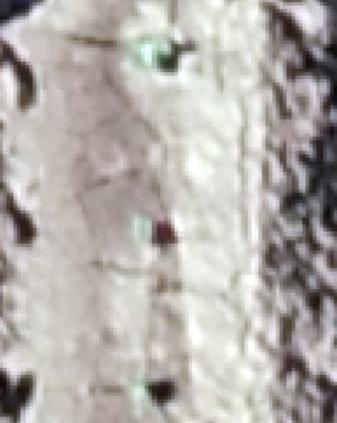cotton: (134, 36, 171, 69), (135, 214, 156, 243), (135, 382, 149, 402)
